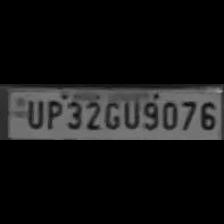0: (158, 98, 178, 132)
2: (83, 96, 101, 132)
3: (64, 96, 82, 132)
6: (196, 99, 218, 131)
7: (177, 98, 195, 132)
9: (140, 96, 160, 132)
G: (101, 96, 119, 132)
P: (44, 98, 62, 132)
U: (23, 97, 43, 129), (121, 96, 139, 130)
